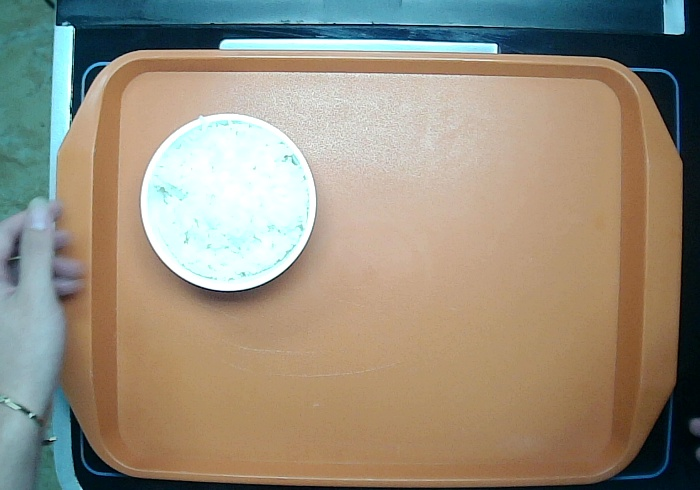HZYJPL-Fan_Wan: (140, 112, 317, 293)
